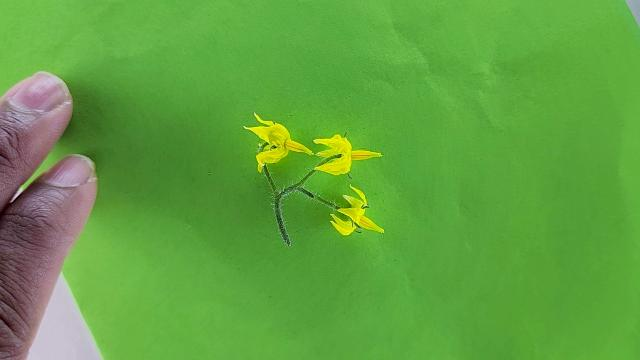Anthesis: (242, 114, 314, 172), (311, 133, 384, 179), (330, 185, 386, 237)
